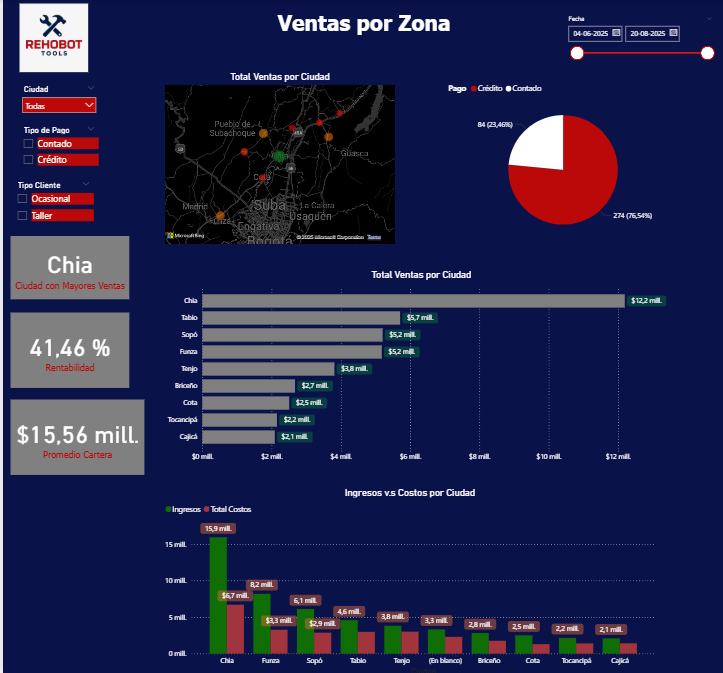

Layout of this report page (visuals, bound fields, positions):
{"tool":"powerbi","page":{"name":"Ventas por Zona","canvas":[1280,1200],"ordinal":2},"visuals":[{"type":"image","box":[23.7,1.7,131.8,131.8],"z":0},{"type":"slicer","fields":{"Values":["Calendario.Fecha"]},"box":[986.2,23.9,279.9,90.7],"z":1000},{"type":"textbox","box":[475.6,12.7,327.7,77.9],"z":2000},{"type":"slicer","fields":{"Values":["Ventas_Diarias.Ciudad"]},"box":[23.7,147,150.4,69.3],"z":3000},{"type":"map","title":"Total Ventas por Ciudad","fields":{"Size":["Medidas.Total_Ventas"],"Category":["Ventas_Diarias.Ciudad_Dep"]},"box":[281.7,126.7,416.7,310],"z":4000},{"type":"slicer","fields":{"Values":["Ventas_Diarias.Pago"]},"box":[22.8,217,150.5,87.5],"z":5000},{"type":"barChart","title":"Total Ventas por Ciudad","fields":{"Category":["Ventas_Diarias.Ciudad"],"Y":["Medidas.Total_Ventas"]},"box":[281.7,476.7,916.7,350],"z":6000},{"type":"pieChart","title":"Porcentaje tipo de Pago","fields":{"Category":["Ventas_Diarias.Pago"],"Y":["CountNonNull(Ventas_Diarias.Pago)"]},"box":[783.3,138.3,415,298.3],"z":7000},{"type":"slicer","fields":{"Values":["Ventas_Diarias.Tipo Cliente"]},"box":[14,316.8,152.3,87.5],"z":8000},{"type":"clusteredColumnChart","title":"Ingresos v.s Costos por Ciudad","fields":{"Category":["Clientes.Ciudad"],"Y":["Medidas.Ingresos","Medidas.Total Costos"]},"box":[282,862,876,338],"z":9000},{"type":"card","fields":{"Values":["Medidas.Margen%"]},"box":[13.3,553.3,210,133.3],"z":10000},{"type":"card","fields":{"Values":["Medidas.Promedio Cartera"]},"box":[13.3,706.7,236.7,133.3],"z":11000},{"type":"card","fields":{"Values":["Medidas.Ciudad con Mayores Ventas"]},"box":[13.3,420,210,111.7],"z":12000}]}

Visuals, with their boxes in screenshot pixels (x1, y1, x2, y2), scaled from the page's 1280x1200 canvas onto the 723x673 screenshot:
image: <region>13, 1, 88, 75</region>
slicer - Calendario.Fecha: <region>557, 13, 715, 64</region>
textbox: <region>269, 7, 454, 51</region>
slicer - Ventas_Diarias.Ciudad: <region>13, 82, 98, 121</region>
"Total Ventas por Ciudad" map: <region>159, 71, 394, 245</region>
slicer - Ventas_Diarias.Pago: <region>13, 122, 98, 171</region>
"Total Ventas por Ciudad" barChart: <region>159, 267, 677, 464</region>
"Porcentaje tipo de Pago" pieChart: <region>442, 78, 677, 245</region>
slicer - Ventas_Diarias.Tipo Cliente: <region>8, 178, 94, 227</region>
"Ingresos v.s Costos por Ciudad" clusteredColumnChart: <region>159, 483, 654, 672</region>
card - Medidas.Margen%: <region>8, 310, 126, 385</region>
card - Medidas.Promedio Cartera: <region>8, 396, 141, 471</region>
card - Medidas.Ciudad con Mayores Ventas: <region>8, 236, 126, 298</region>
